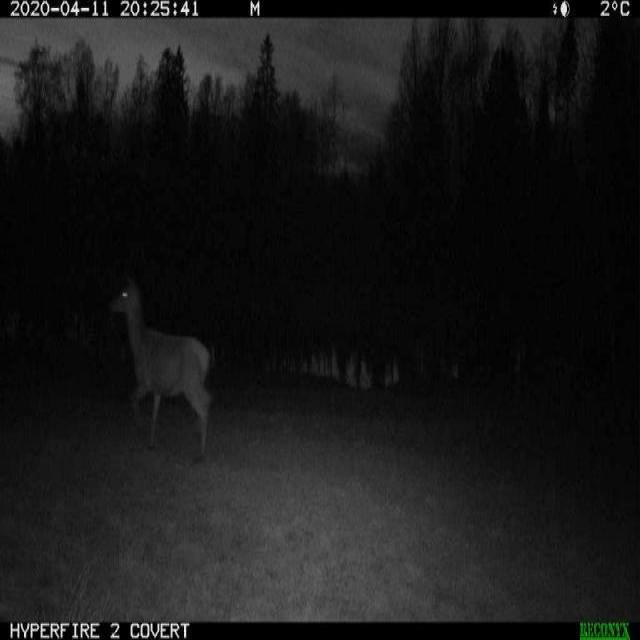deer: (95, 267, 222, 452)
